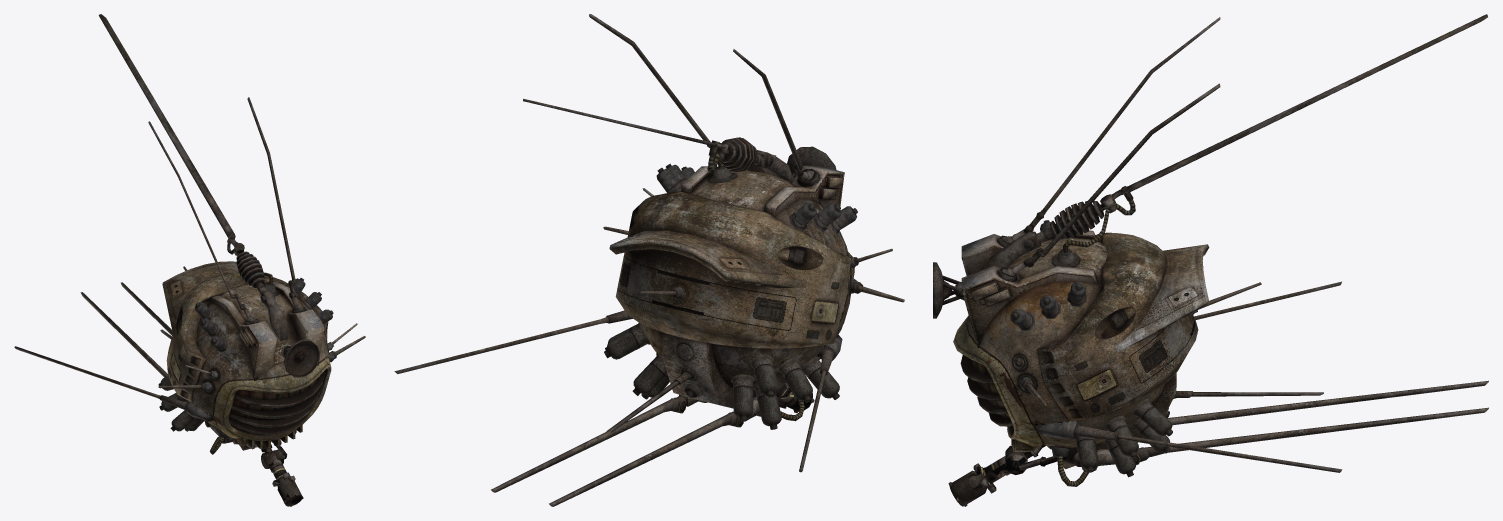
The model's file is Eyebot_B.obj.
3 renders of one model, left to right at view 1: azimuth 30°, elevation 25°; view 2: azimuth 150°, elevation 25°; view 3: azimuth 270°, elevation 25°, orthographic. The views are drawn at different scales.
Visible parts, largest first — view 1: Eyebot; view 2: Eyebot; view 3: Eyebot.
Boxes of the visible parts, <box> form: Eyebot: <box>14,14,365,506</box>; Eyebot: <box>394,14,904,506</box>; Eyebot: <box>933,14,1488,506</box>.
Size of the model in its own units: 2.48 by 2.99 by 3.08.
1 material, 1 textured.
